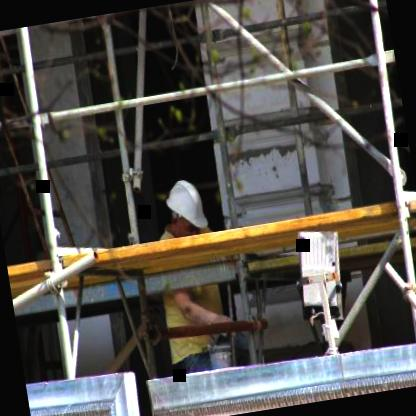helmet: (158, 170, 212, 245)
